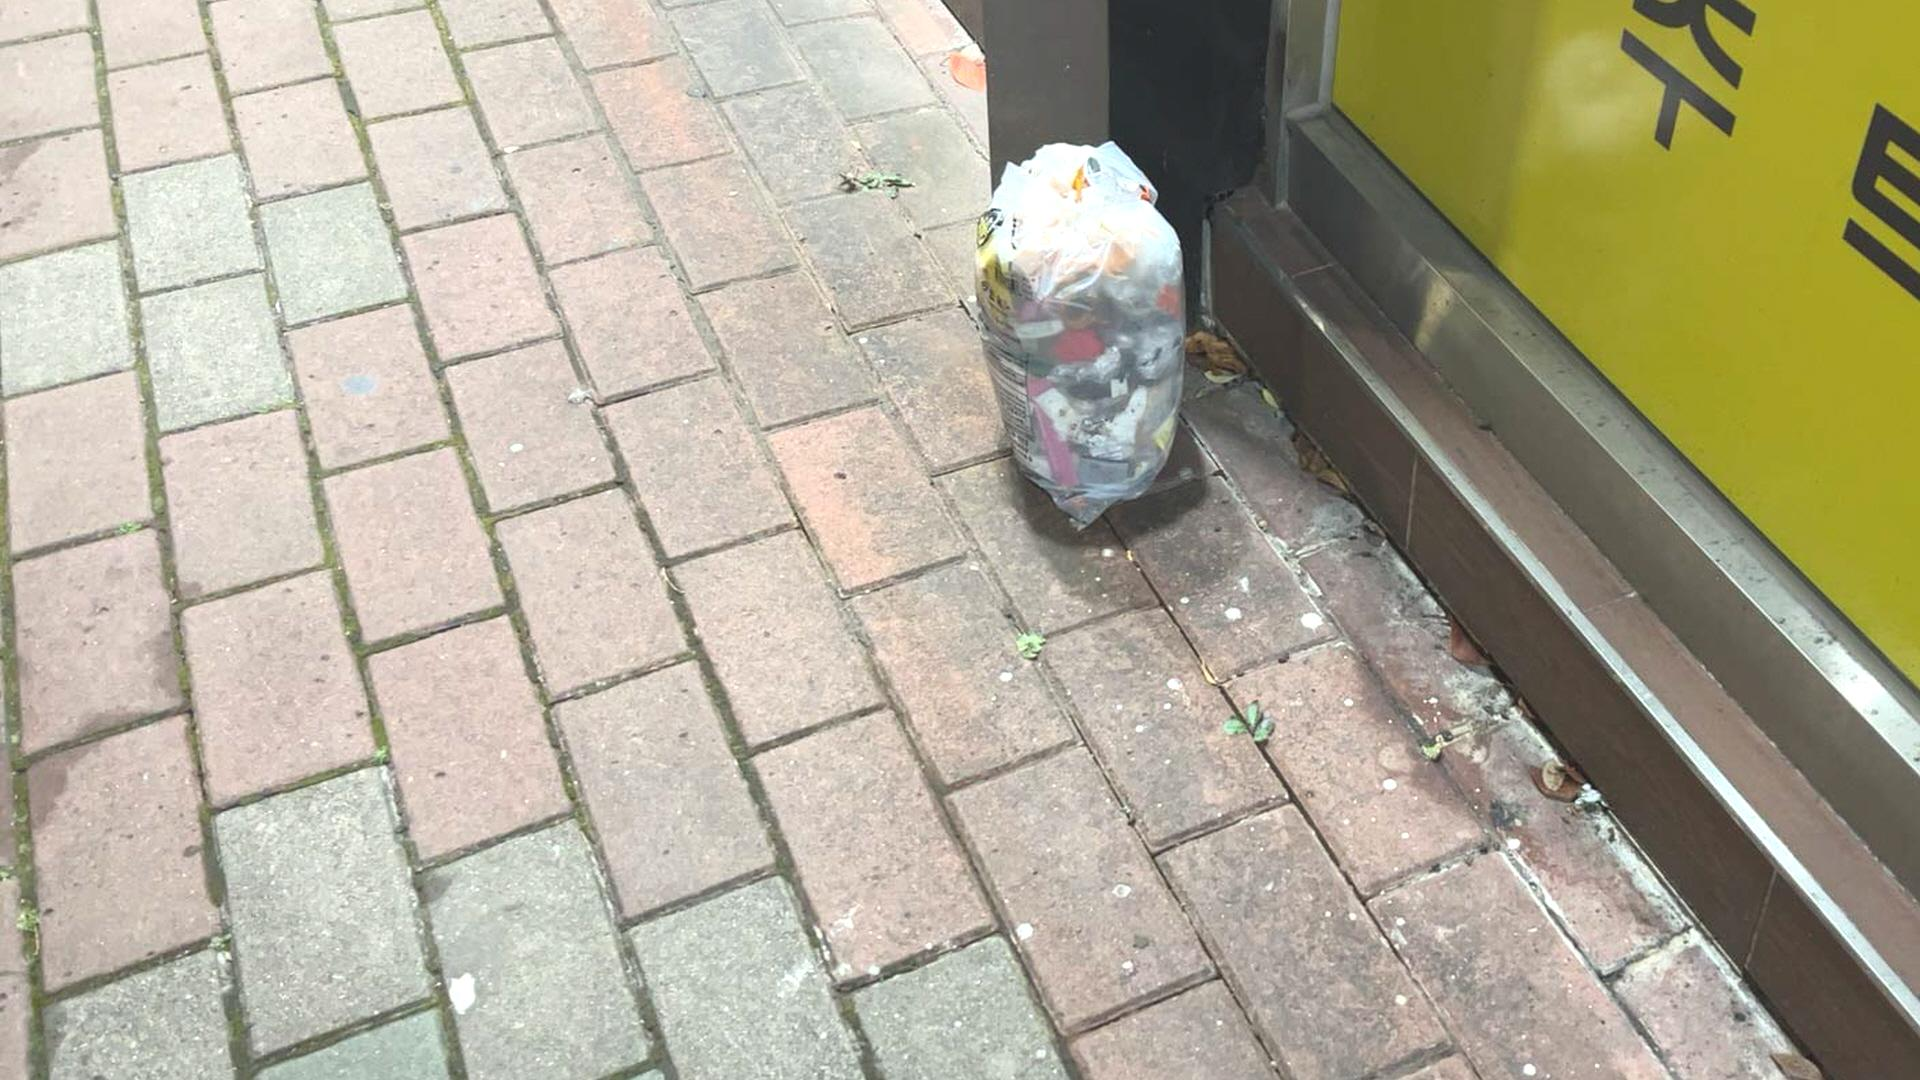white_bag: (956, 131, 1211, 550)
